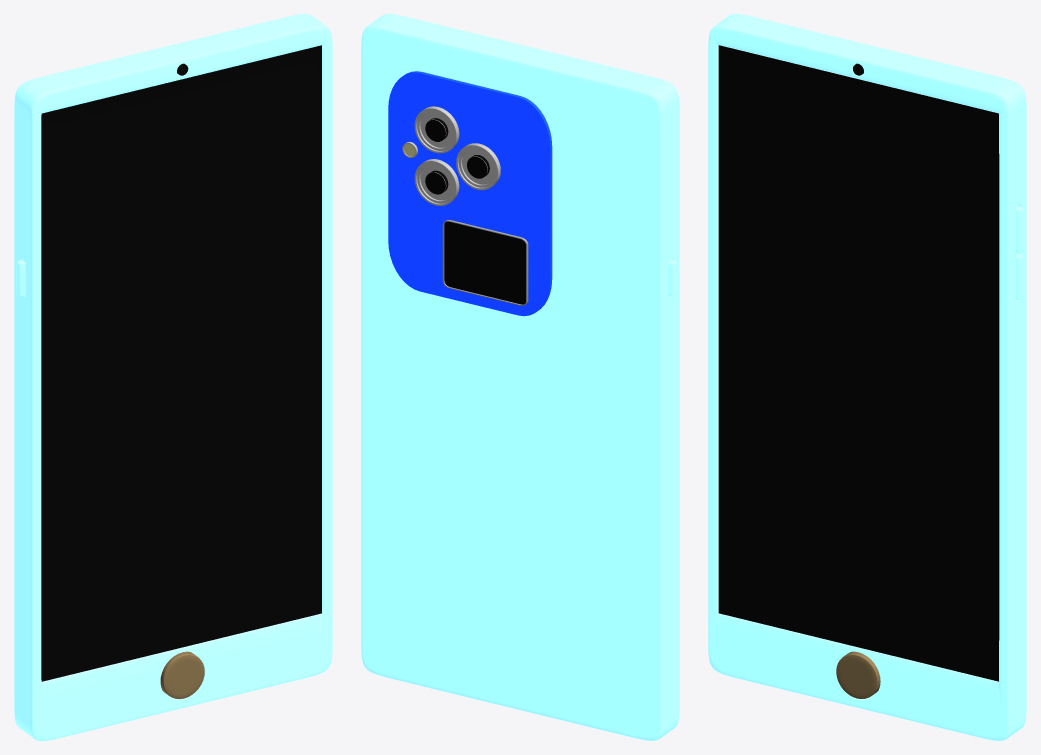
File: Mobile.fbx
The picture shows the model from 3 angles, left to right: view 1: azimuth 30°, elevation 25°; view 2: azimuth 150°, elevation 25°; view 3: azimuth 330°, elevation 25°; orthographic projection.
Visible parts, largest first — view 1: Mobile; view 2: Mobile; view 3: Mobile.
Part boxes in pixels (x1=…): Mobile: x1=14, y1=14, x2=332, y2=740; Mobile: x1=361, y1=14, x2=679, y2=740; Mobile: x1=708, y1=14, x2=1026, y2=740.
Bounding box in the file's own units: 73.78 × 147 × 10.4.
